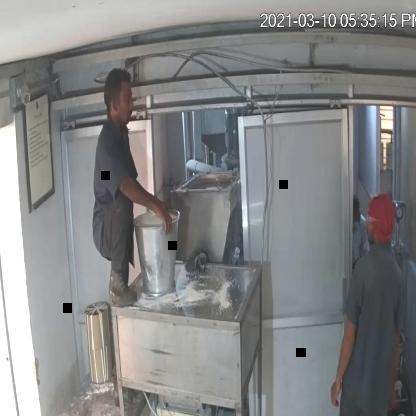no_glove: (116, 164, 178, 240), (318, 300, 358, 410)
